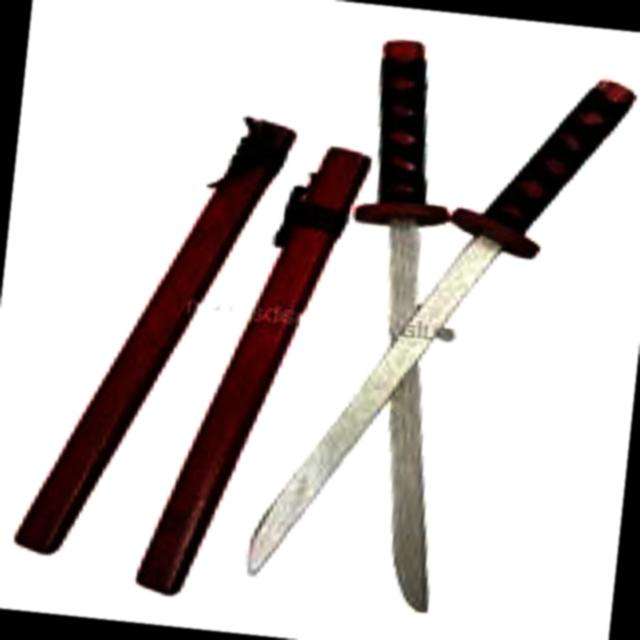long sword: (229, 42, 636, 640)
